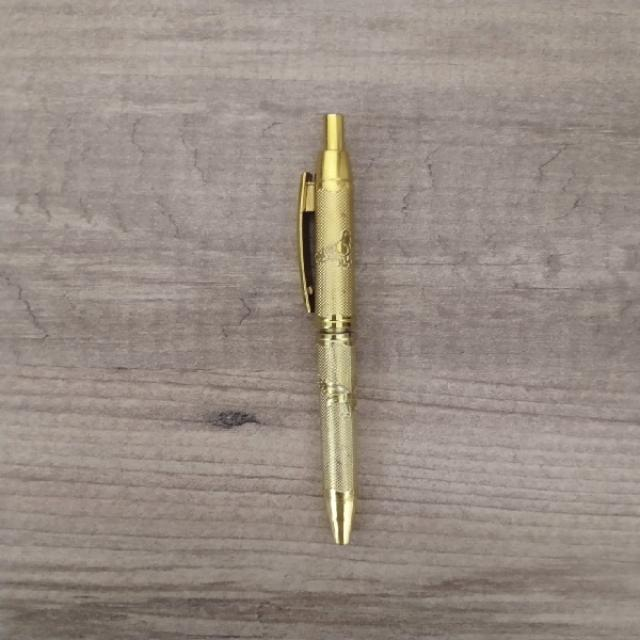signature pen: (298, 115, 356, 543)
